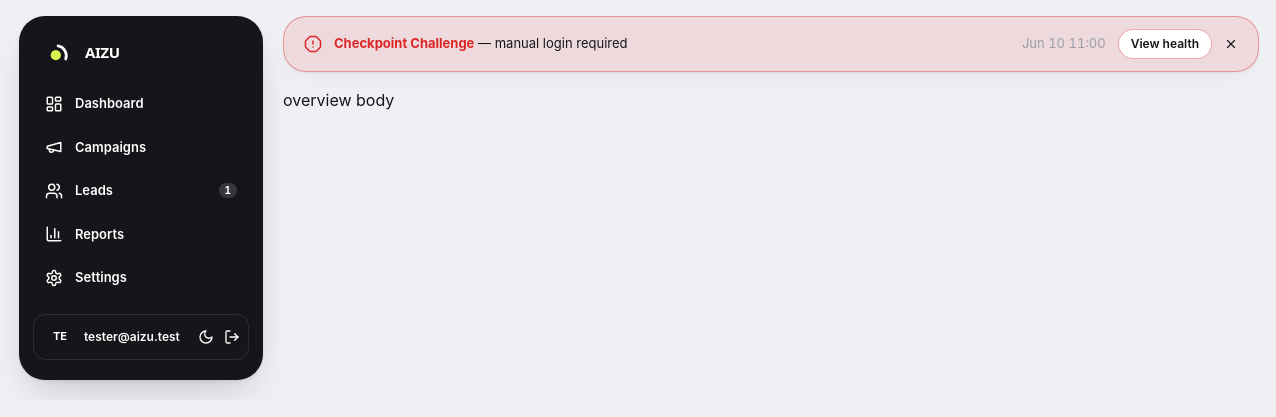
AppLayout chrome › halt banner appears only when health is halted and can be dismissed
Expected: the message shows "Checkpoint Challenge", [334, 35, 474, 51]
Click the button named "Dismiss" at (1231, 44), box [1224, 37, 1238, 51]
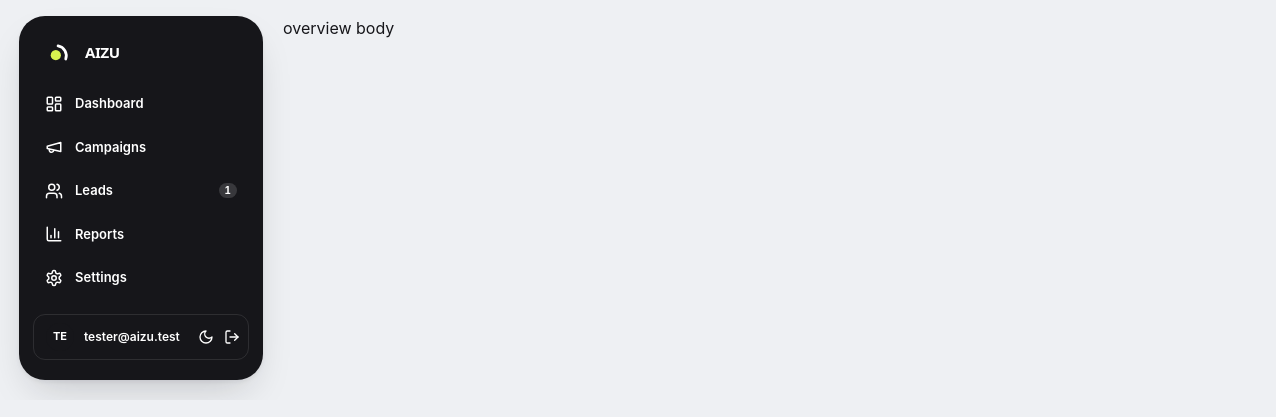
Now the message "Checkpoint Challenge — manual login required Jun 10 11:00 View health" is gone
